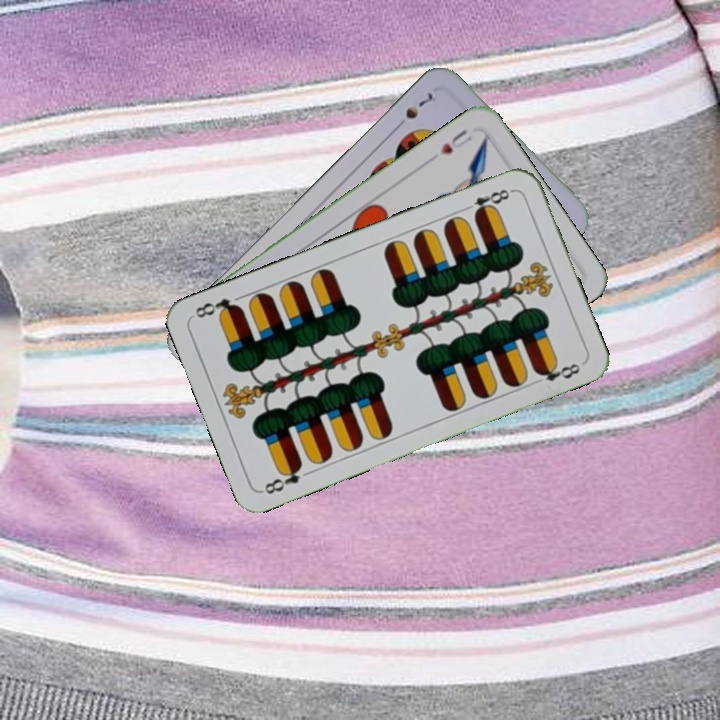E8: (459, 185, 516, 219), (259, 459, 305, 497)
HU: (426, 125, 475, 164)
S7: (391, 88, 436, 132)
